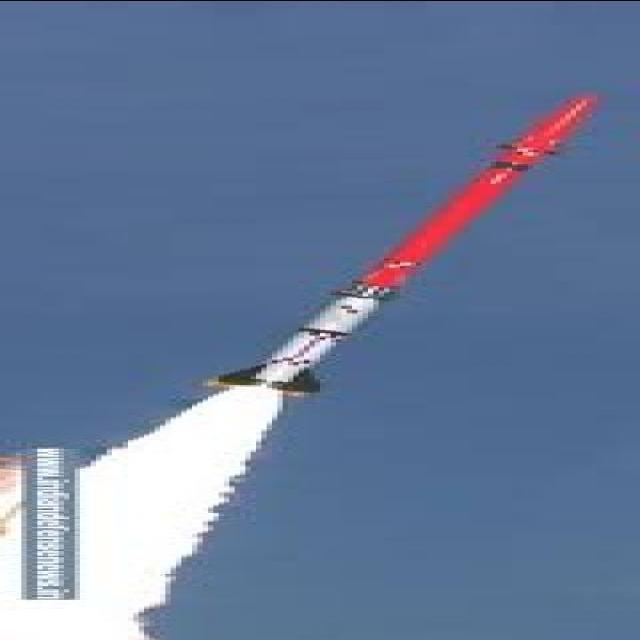Missile: (198, 89, 610, 391)
